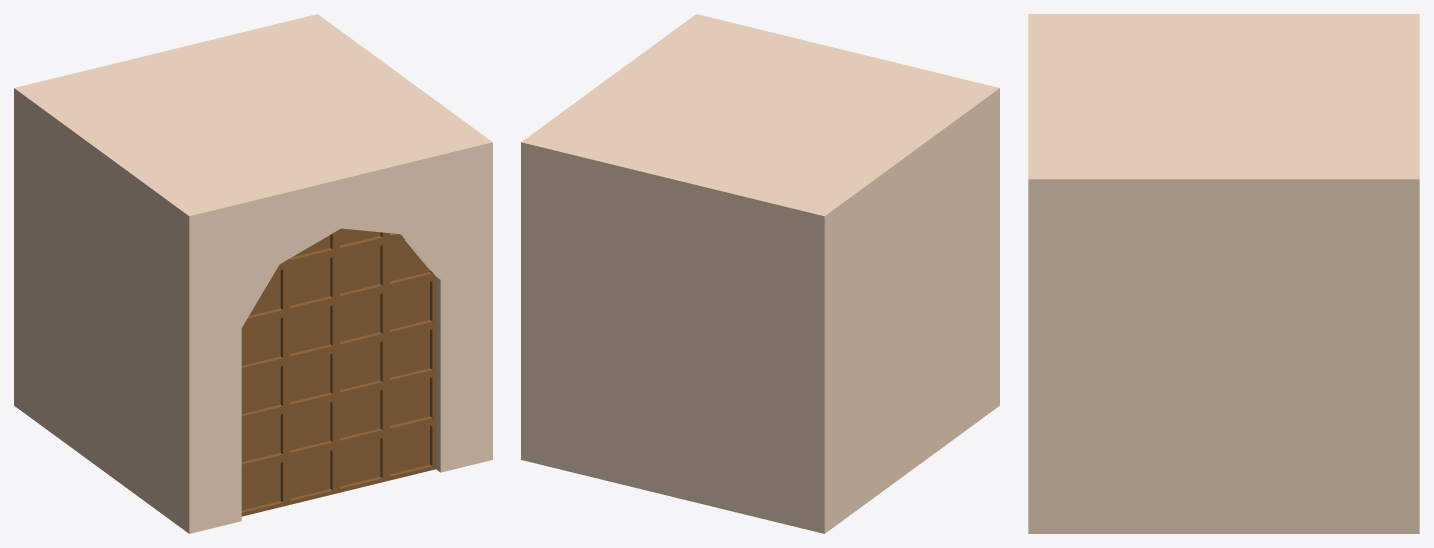
File: Abstract_Castle_Block_Single_WoodenDoor_Cream_01.fbx
3 renders of one model, left to right at view 1: azimuth 30°, elevation 25°; view 2: azimuth 150°, elevation 25°; view 3: azimuth 270°, elevation 25°, orthographic. The views are drawn at different scales.
Visible parts, largest first — view 1: Model; view 2: Model; view 3: Model.
Part boxes in pixels (x1=…): Model: x1=14, y1=14, x2=492, y2=533; Model: x1=521, y1=14, x2=999, y2=533; Model: x1=1028, y1=14, x2=1419, y2=533.
Size of the model in its own units: 1000 by 1000 by 1000.
